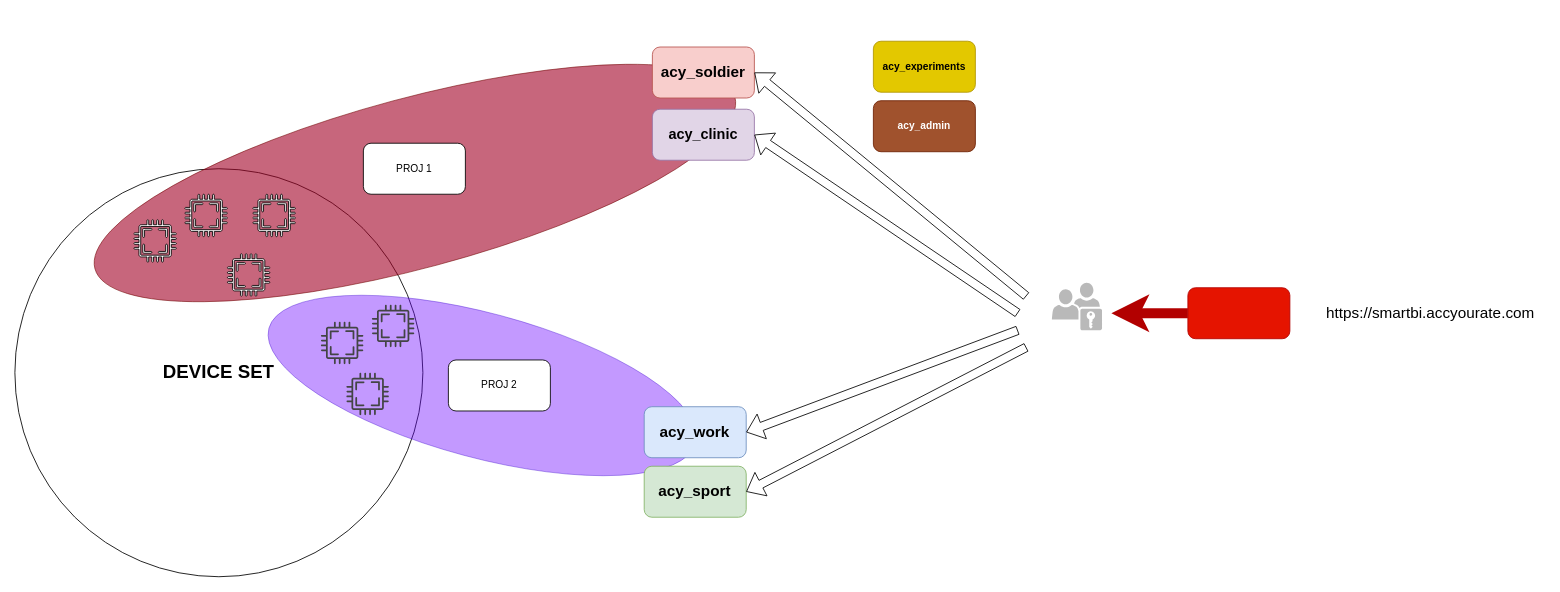
The diagram is 1560 pixels wide and 592 high, and some of its shapes have lost their labels. The centre of each missing label's shape, as x and y in pixels:
"acy_main" goes at point 1238,313.
"ROLES" goes at point 1076,306.
